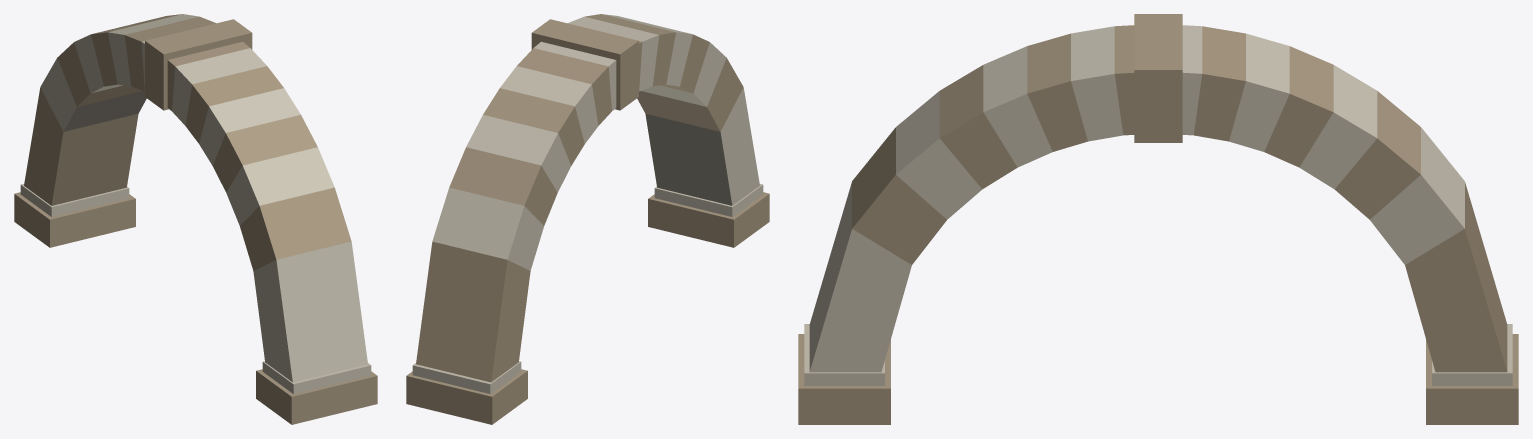
The model's file is ArcadeArch__Round.fbx.
The picture shows the model from 3 angles, left to right: view 1: azimuth 30°, elevation 25°; view 2: azimuth 150°, elevation 25°; view 3: azimuth 270°, elevation 25°; orthographic projection. The views are drawn at different scales.
Parts seen in each view (by area): view 1: ArcadeArch__Round; view 2: ArcadeArch__Round; view 3: ArcadeArch__Round.
Boxes of the visible parts, <box> form: ArcadeArch__Round: <box>14,14,377,424</box>; ArcadeArch__Round: <box>406,14,769,424</box>; ArcadeArch__Round: <box>798,14,1518,424</box>.
Bounding box in the file's own units: 67 × 196 × 358.
Materials: 1 (1 with a texture image).
